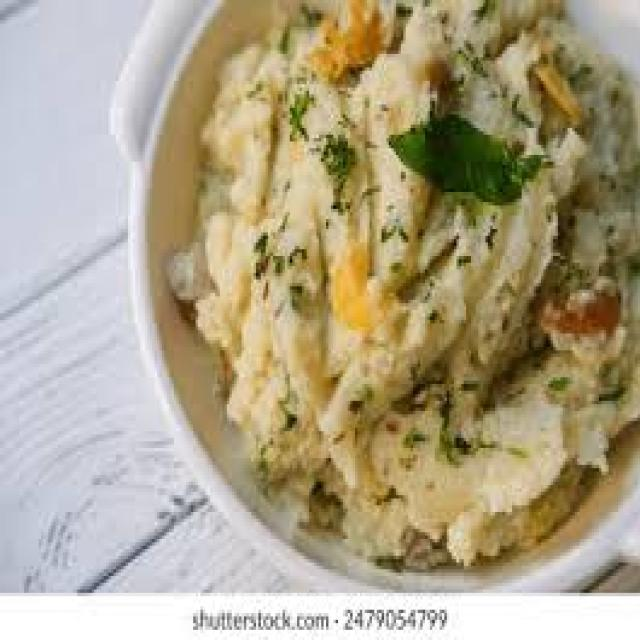UPMA: (162, 0, 638, 556)
